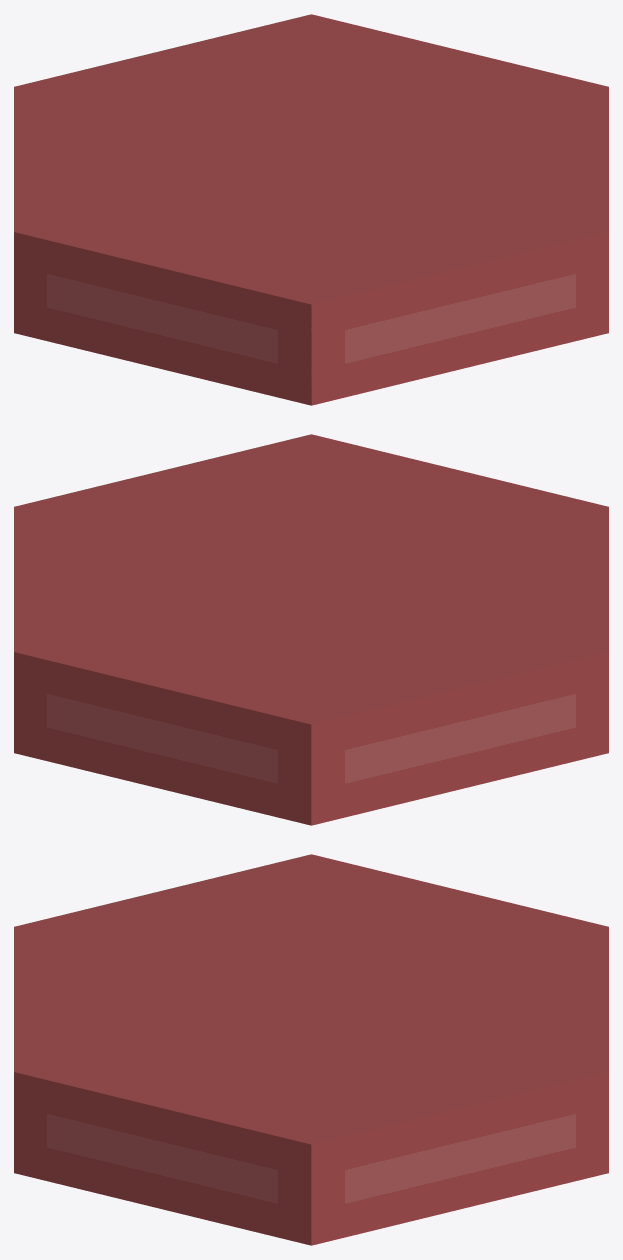
The model's file is red_unit2.glb.
3 views of the same model, one above another, from view 1: azimuth 30°, elevation 25°; view 2: azimuth 150°, elevation 25°; view 3: azimuth 270°, elevation 25° (orthographic).
Parts seen in each view (by area): view 1: cylinder; view 2: cylinder; view 3: cylinder.
Part boxes in pixels (x1=…): cylinder: x1=14, y1=14, x2=608, y2=405; cylinder: x1=14, y1=434, x2=608, y2=825; cylinder: x1=14, y1=854, x2=608, y2=1245.
Bounding box in the file's own units: 1.15 × 0.1875 × 1.
1 material, 1 textured.
